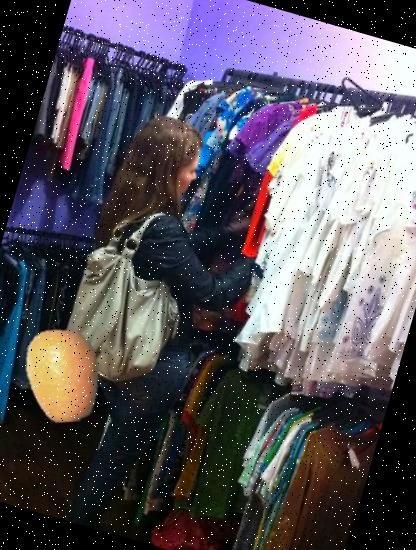Kumquats: (3, 316, 122, 434)
